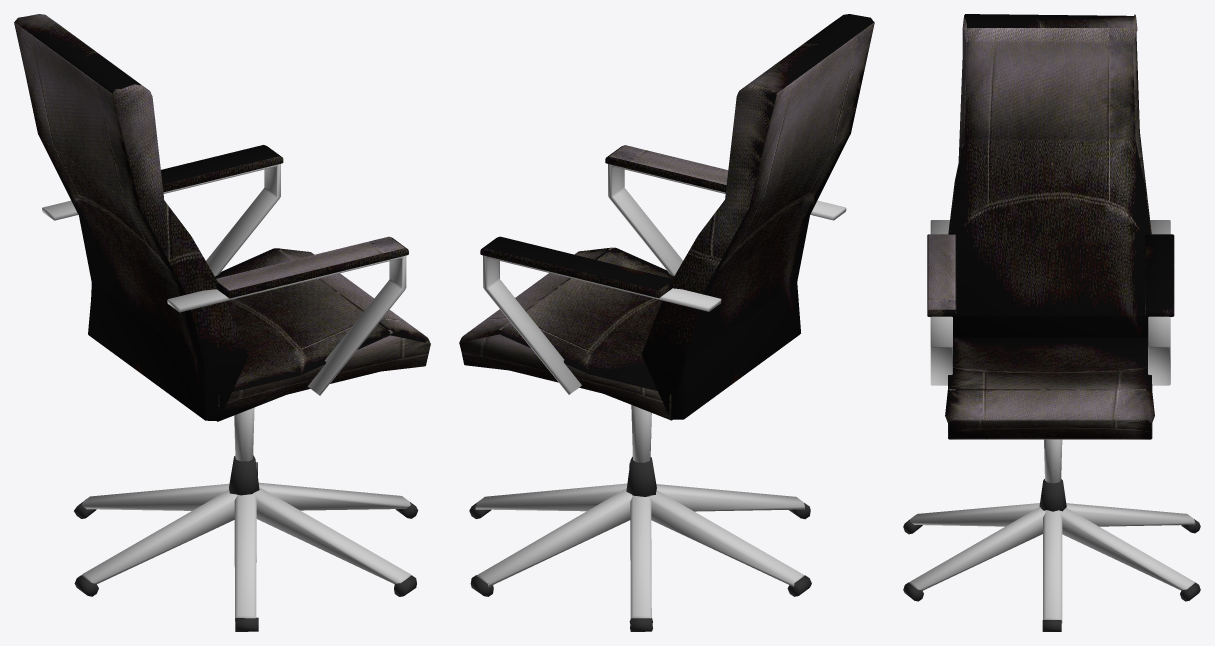
Rendered from chair.obj.
3 renders of one model, left to right at view 1: azimuth 30°, elevation 25°; view 2: azimuth 150°, elevation 25°; view 3: azimuth 270°, elevation 25°, orthographic. The views are drawn at different scales.
Visible parts, largest first — view 1: Box1700, Object015, Box1702, Line024, Cylinder031, Cylinder039; view 2: Box1700, Object015, Box1702, Line024, Cylinder031, Cylinder039; view 3: Box1700, Object015, Box1702, Line024, Cylinder031, Cylinder039.
Boxes of the visible parts, bbox=[...] form: Box1700: bbox=[14, 14, 408, 420]; Object015: bbox=[215, 248, 430, 421]; Box1702: bbox=[81, 462, 411, 621]; Line024: bbox=[42, 164, 406, 395]; Cylinder031: bbox=[234, 407, 254, 461]; Cylinder039: bbox=[229, 455, 259, 495]; Box1700: bbox=[480, 14, 874, 419]; Object015: bbox=[459, 247, 673, 420]; Box1702: bbox=[475, 463, 804, 619]; Line024: bbox=[483, 164, 846, 394]; Cylinder031: bbox=[631, 405, 651, 462]; Cylinder039: bbox=[626, 457, 656, 496]; Box1700: bbox=[927, 14, 1174, 390]; Object015: bbox=[945, 337, 1154, 439]; Box1702: bbox=[909, 503, 1195, 622]; Line024: bbox=[930, 220, 1170, 385]; Cylinder031: bbox=[1044, 439, 1062, 483]; Cylinder039: bbox=[1039, 479, 1066, 511].
Bounding box in the file's own units: 78.5 × 117 × 66.48.
Materials: 3 (1 with a texture image).
